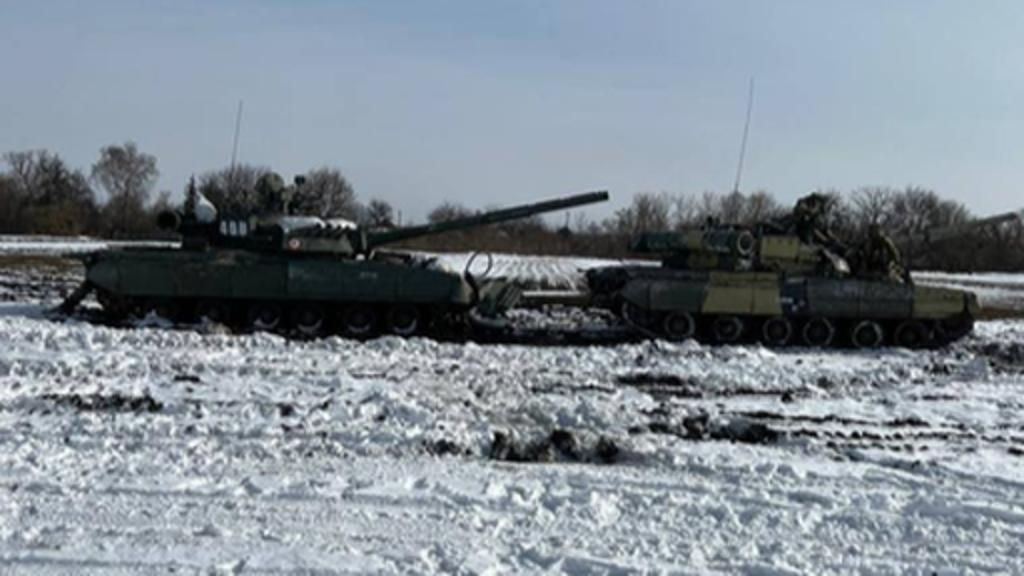TANK: (62, 176, 610, 344), (592, 202, 1020, 346)
